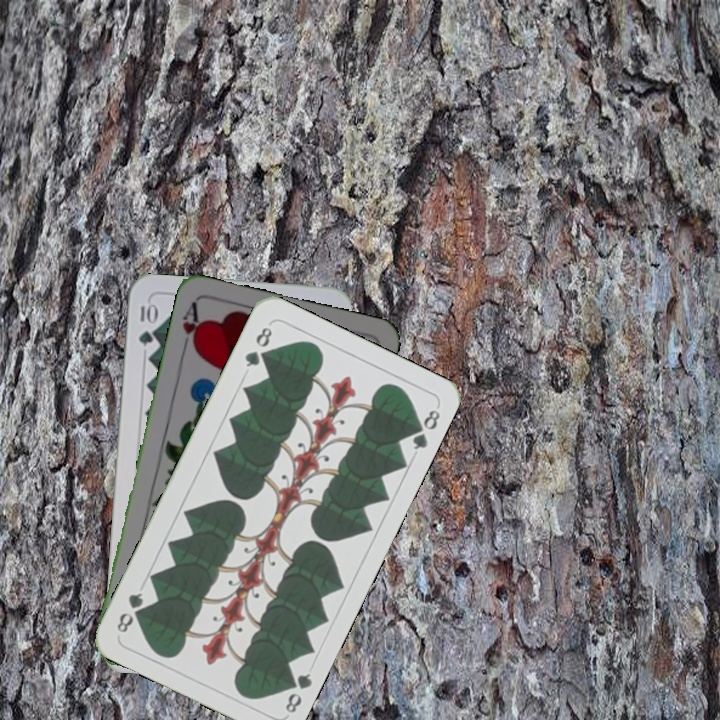G10: (135, 298, 158, 348)
G8: (240, 321, 275, 370), (281, 669, 315, 716)
HA: (177, 299, 205, 358)
